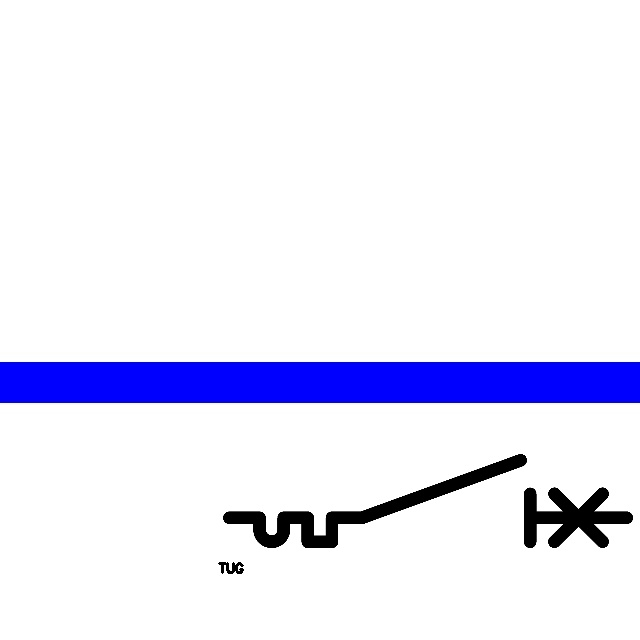interruptor_termomagnetico: (219, 450, 636, 552)
